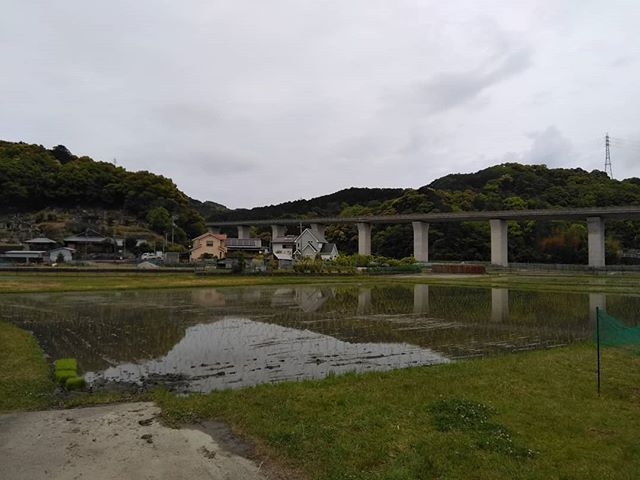bridge: (220, 198, 640, 265)
building: (3, 227, 143, 269), (273, 229, 343, 275), (191, 222, 261, 268)
sky: (1, 1, 629, 162)
